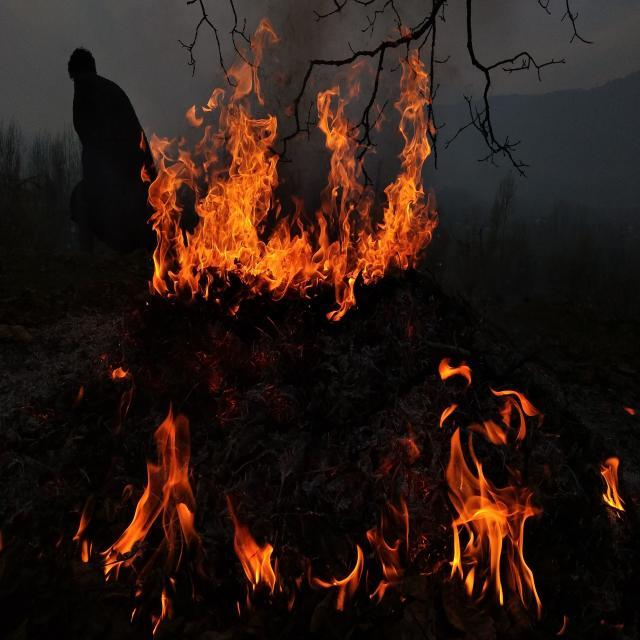Fire: (138, 18, 442, 322), (226, 356, 544, 614), (73, 402, 202, 636), (600, 457, 628, 514), (110, 366, 128, 380)
